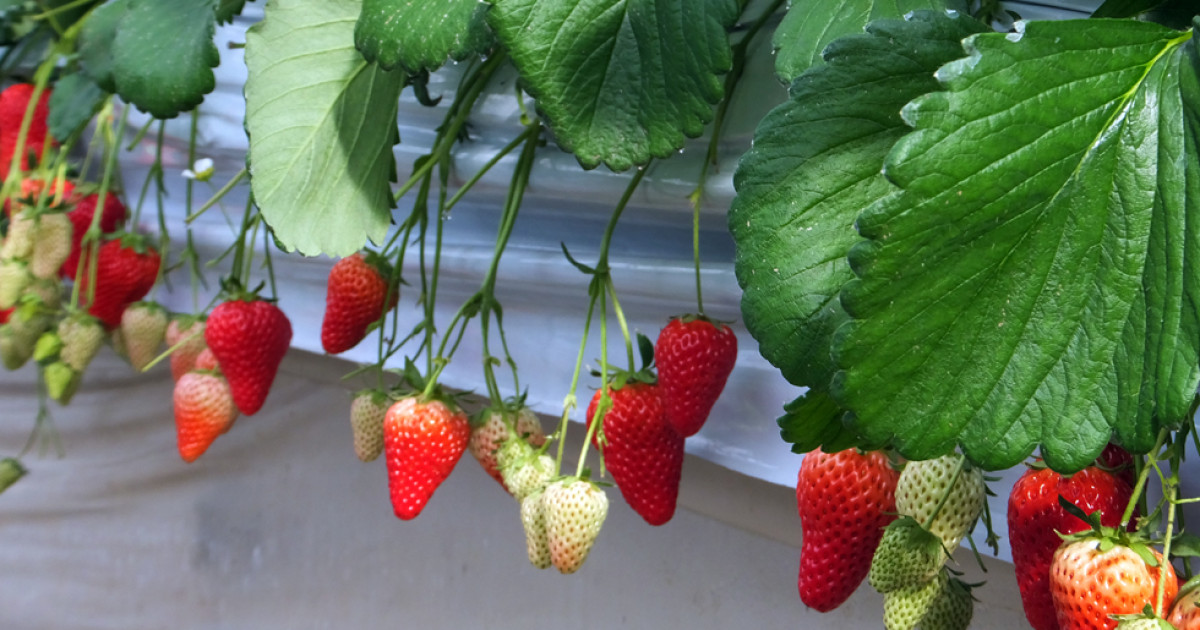green_strawberry: (900, 457, 980, 536), (885, 565, 973, 629), (865, 517, 935, 595), (548, 486, 609, 575), (11, 207, 73, 277), (479, 400, 534, 463), (124, 302, 164, 369), (350, 390, 388, 460), (504, 439, 550, 496), (521, 489, 552, 572), (58, 311, 101, 366), (7, 302, 44, 364), (165, 309, 208, 360), (46, 360, 82, 404), (31, 333, 60, 361)
red_strawberry: (796, 442, 895, 603), (593, 383, 685, 523), (385, 392, 472, 525), (206, 295, 294, 414), (660, 313, 740, 433), (321, 251, 394, 353), (96, 239, 159, 326), (172, 371, 231, 459), (74, 188, 128, 240)
